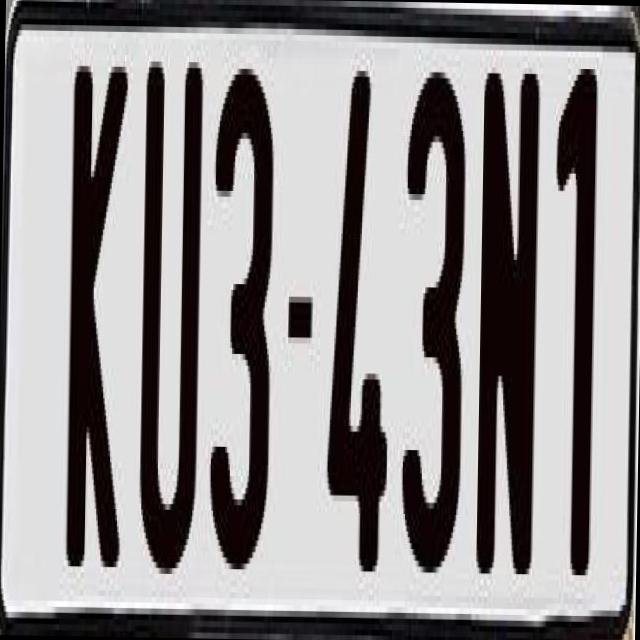1: (546, 57, 598, 576)
3: (400, 54, 475, 578), (206, 50, 280, 558)
4: (320, 58, 398, 566)
K: (62, 54, 124, 578)
N: (474, 67, 544, 586)
U: (136, 49, 206, 580)
